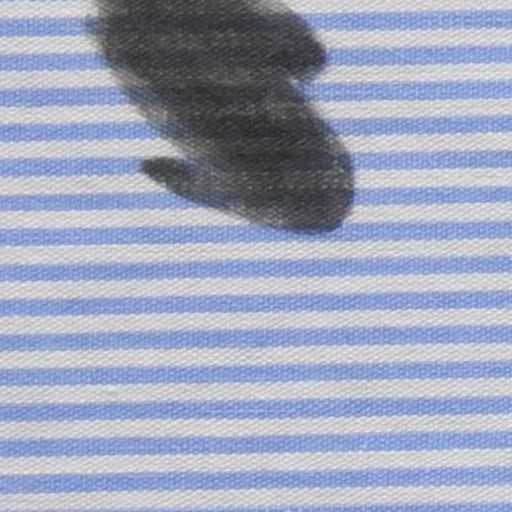defect: (103, 1, 357, 252)
